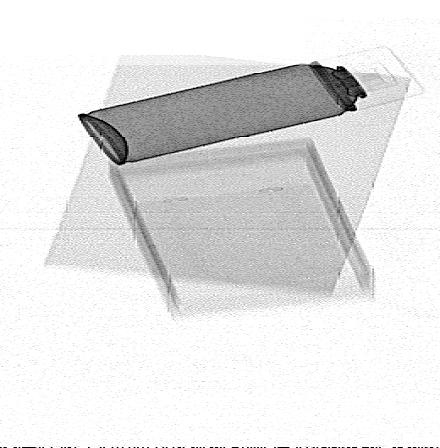Sprayer: (75, 46, 425, 166)
